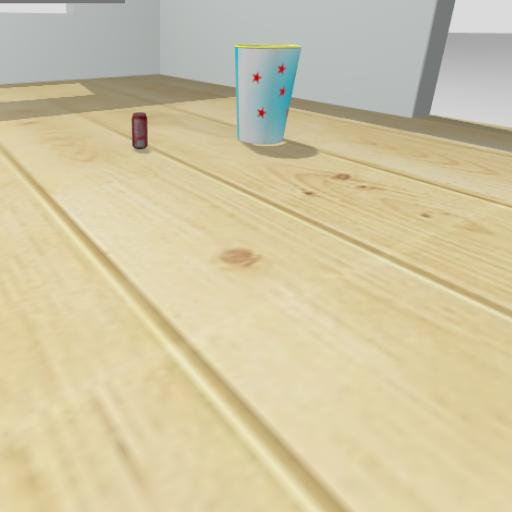COCA: (125, 93, 165, 173)
Trash: (226, 36, 326, 196)
